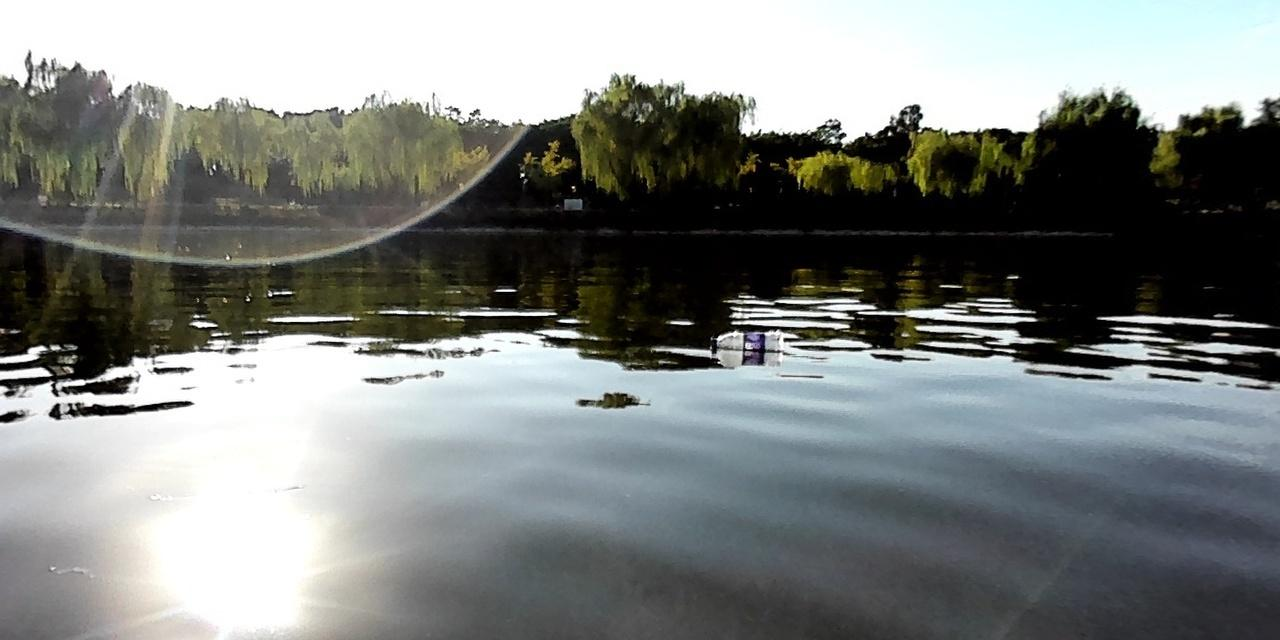bottle: (706, 325, 784, 350)
